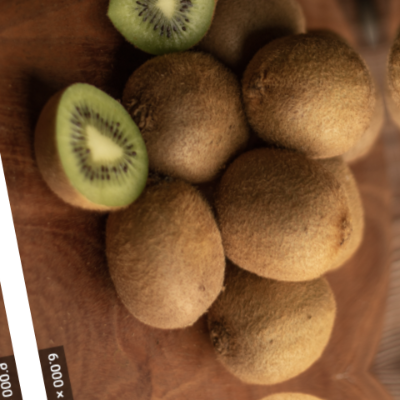kiwi: (93, 149, 241, 354), (206, 116, 367, 299), (105, 23, 261, 199), (235, 7, 394, 173), (184, 247, 351, 398)
